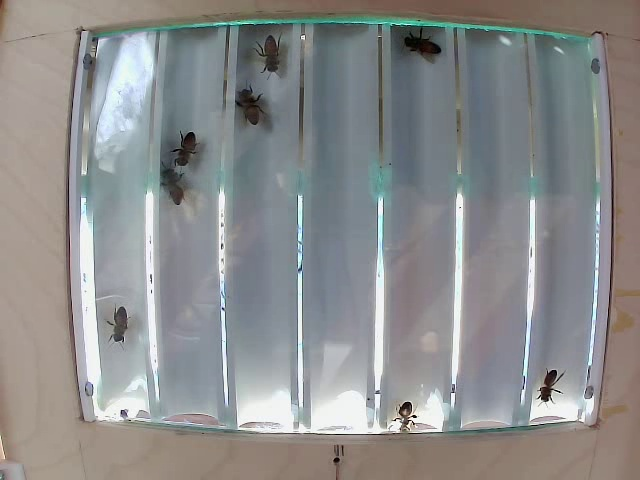bee: (249, 37, 297, 79), (402, 22, 446, 59), (232, 88, 267, 132), (154, 163, 193, 194), (164, 128, 203, 158)
